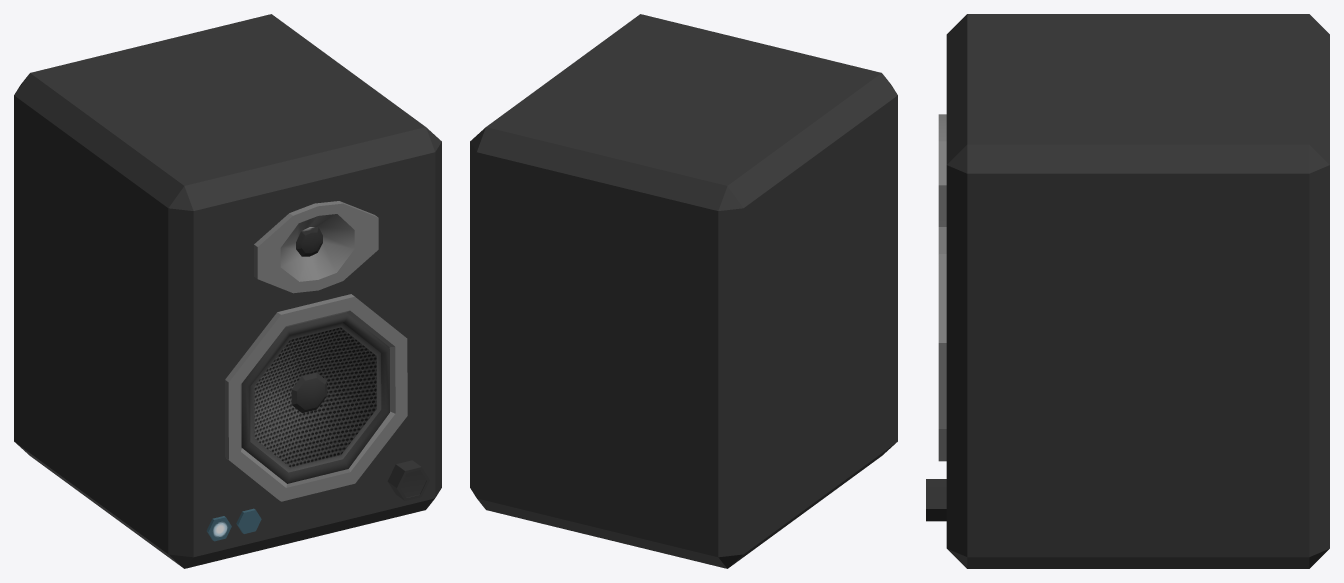
The model's file is SpeakerMeters.fbx.
3 renders of one model, left to right at view 1: azimuth 30°, elevation 25°; view 2: azimuth 150°, elevation 25°; view 3: azimuth 270°, elevation 25°, orthographic. The views are drawn at different scales.
Parts seen in each view (by area): view 1: pCube2; view 2: pCube2; view 3: pCube2.
Boxes of the visible parts, x1,y1,x2,y2 form: pCube2: (14, 14, 441, 568); pCube2: (470, 14, 897, 568); pCube2: (926, 14, 1329, 568).
Bounding box in the file's own units: 0.8222 × 1.13 × 0.9486.
Materials: 1 (1 with a texture image).
